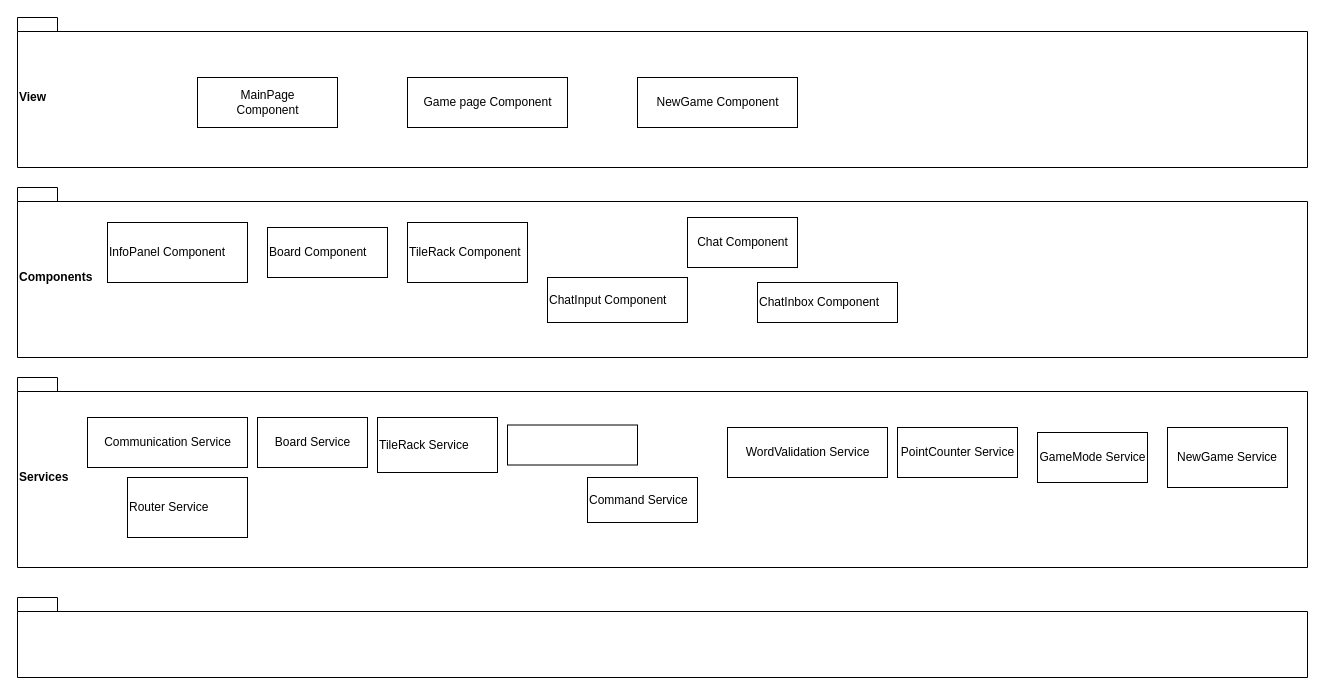
The diagram is 1325 pixels wide and 695 high, and some of its shapes have lost their labels. Each missing label, with the centre of its shape:
ChatInput Service: (x=572, y=444)
storage: (x=662, y=637)
